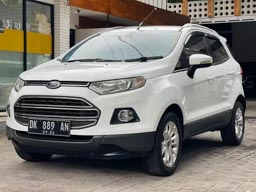plat: (27, 118, 71, 129)
